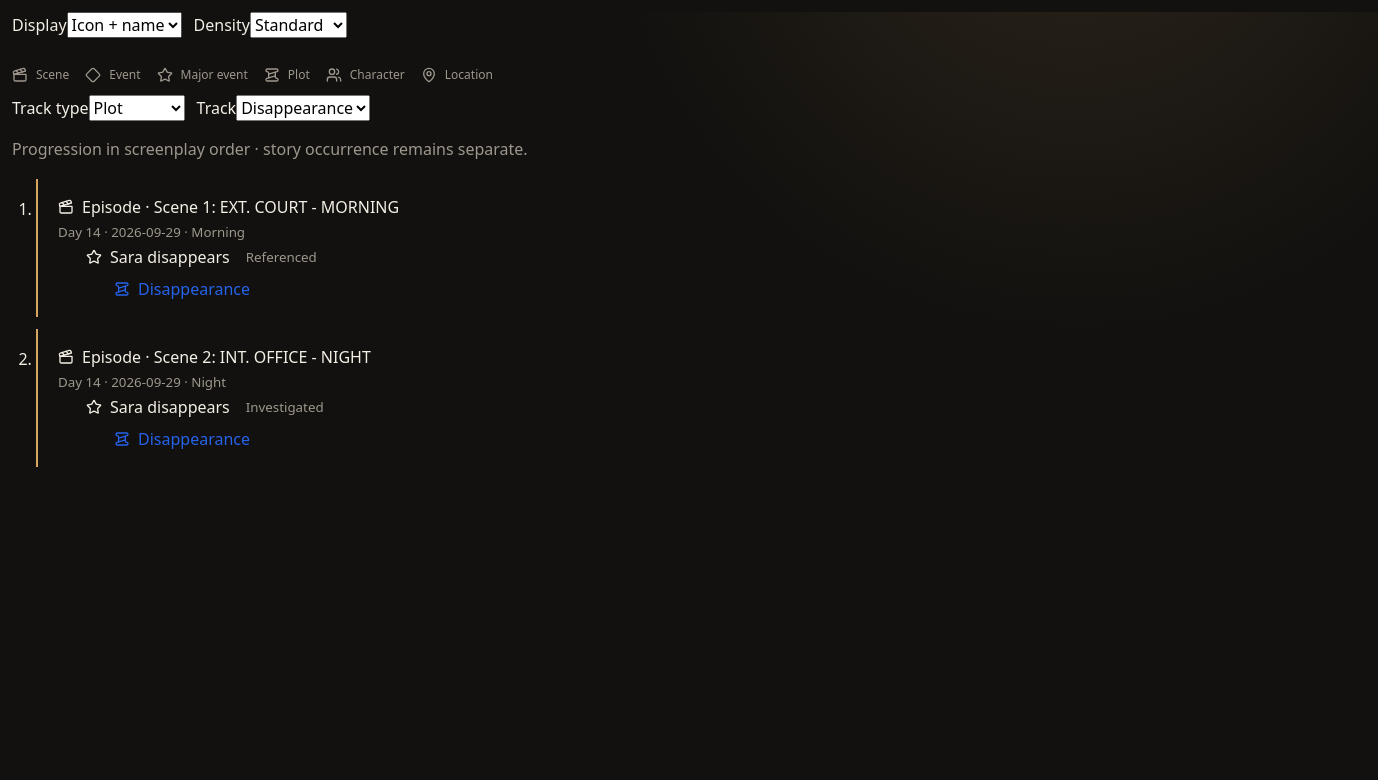
follows event progression through screenplay order while retaining occurrence day
Select "Event" in the dropdown labelled "Track type" at (136,108), box [88, 95, 184, 121]
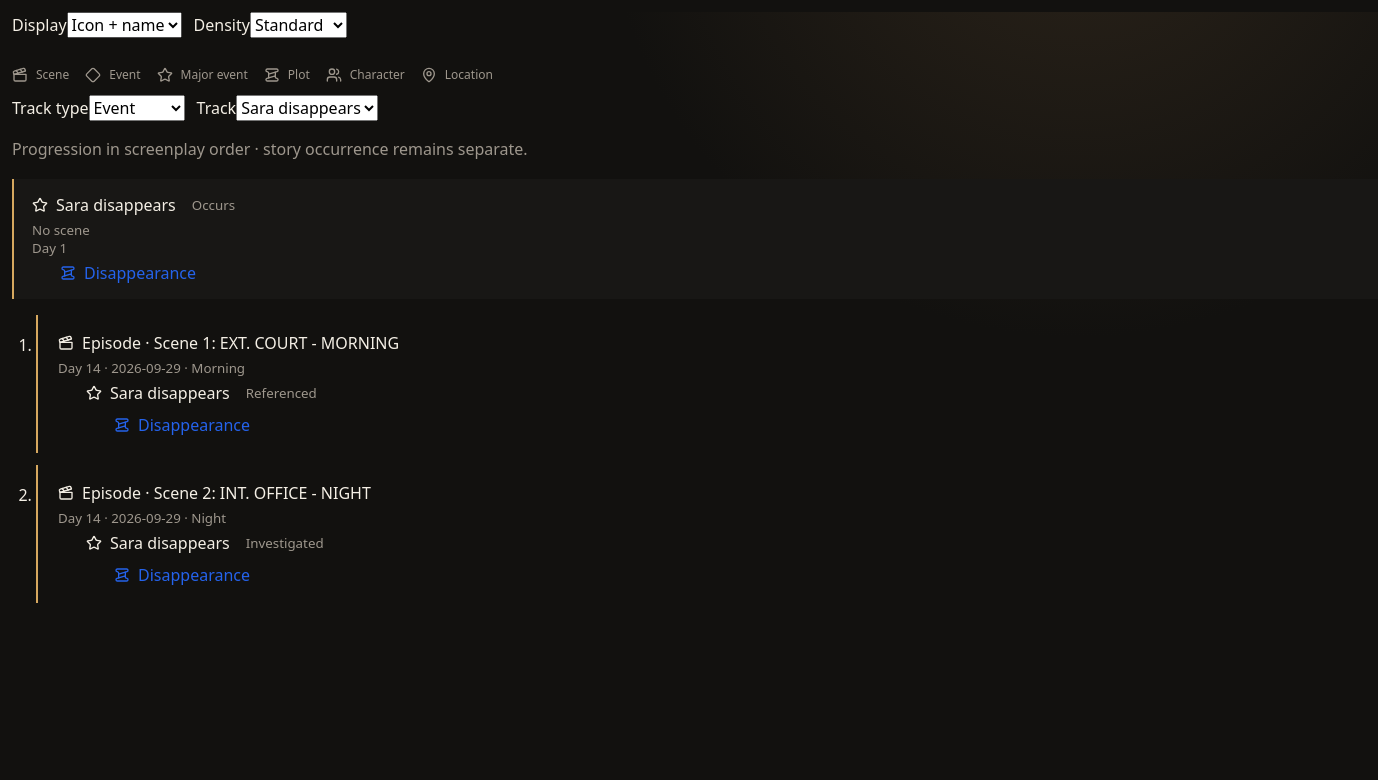
Expected: the list item that starts with "Episode · Scene 1: EXT. COURT - MORNING" shows "Referenced", [78, 377, 325, 409]
Expected: the text "Day 1" is shown, [32, 239, 67, 257]
